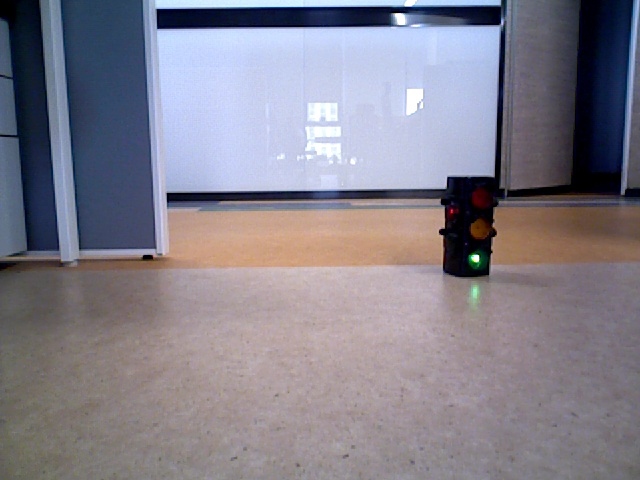green: (447, 180, 489, 276)
